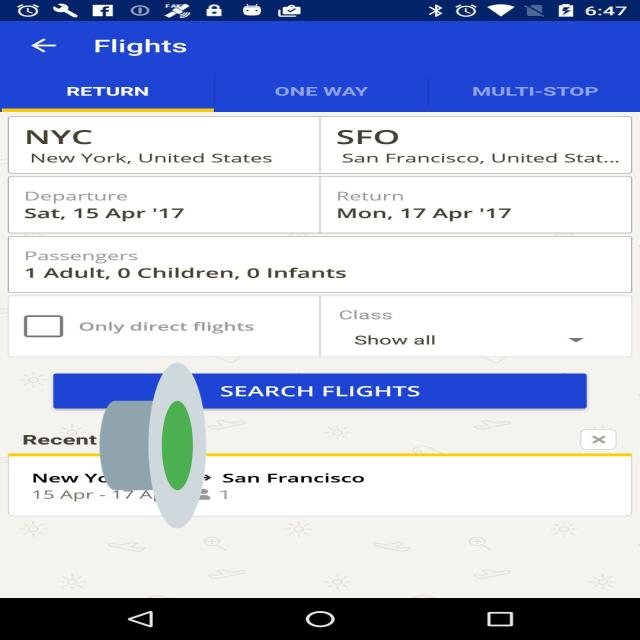social proof: (100, 292, 206, 599)
